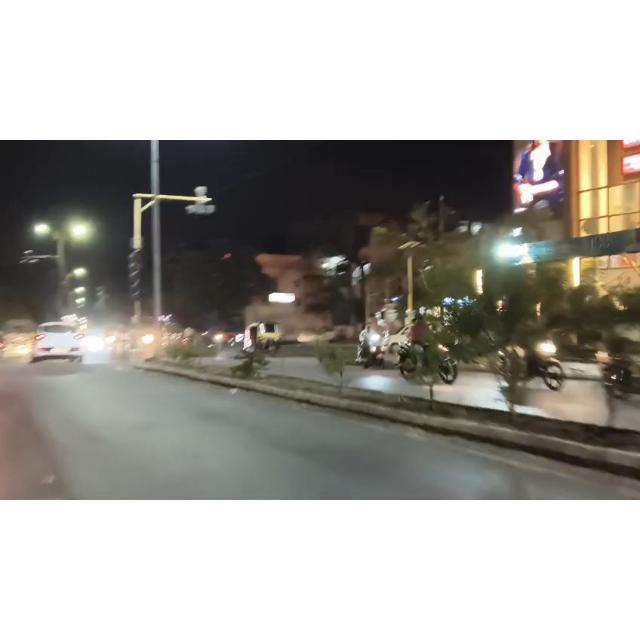auto: (238, 318, 286, 354)
car: (30, 313, 89, 371)
